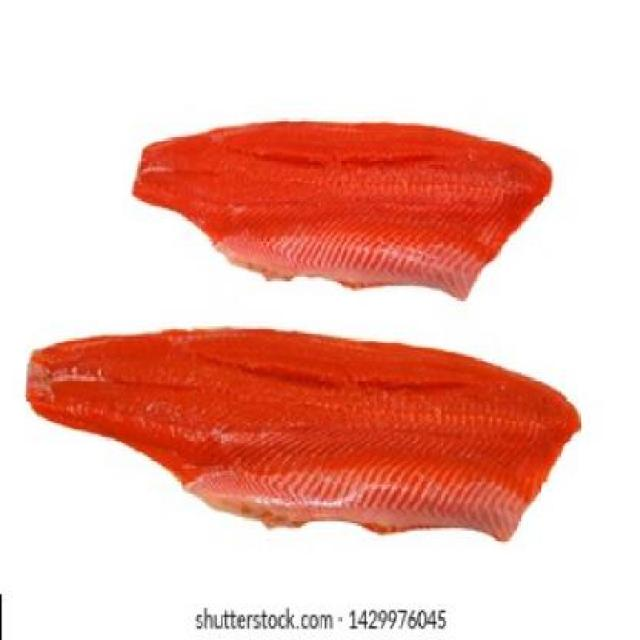salmon: (19, 306, 612, 581), (92, 84, 573, 324)
